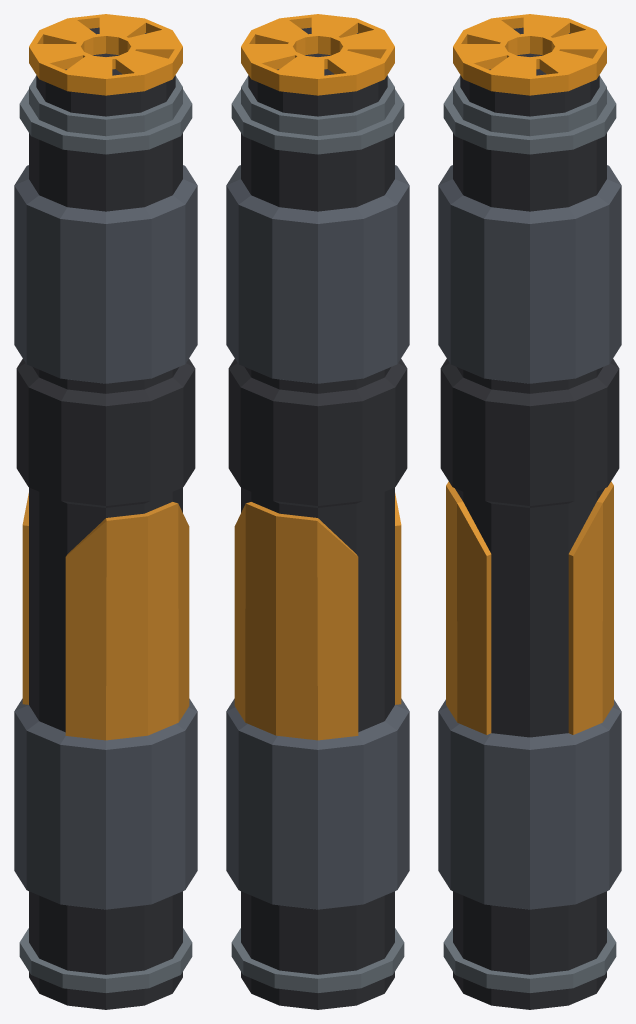
Rendered from SM_Electric_dead-end_electric_pipe.glb.
3 views of the same model, side by side, from view 1: azimuth 30°, elevation 25°; view 2: azimuth 150°, elevation 25°; view 3: azimuth 270°, elevation 25° (orthographic).
Parts seen in each view (by area): view 1: SM_Electric_dead-end_electric_pipe; view 2: SM_Electric_dead-end_electric_pipe; view 3: SM_Electric_dead-end_electric_pipe.
Boxes of the visible parts, x1=… form: SM_Electric_dead-end_electric_pipe: x1=14, y1=14, x2=197, y2=1009; SM_Electric_dead-end_electric_pipe: x1=226, y1=14, x2=409, y2=1009; SM_Electric_dead-end_electric_pipe: x1=438, y1=14, x2=621, y2=1009.
Bounding box in the file's own units: 0.3569 × 2 × 0.3569.
1 material, 1 textured.
